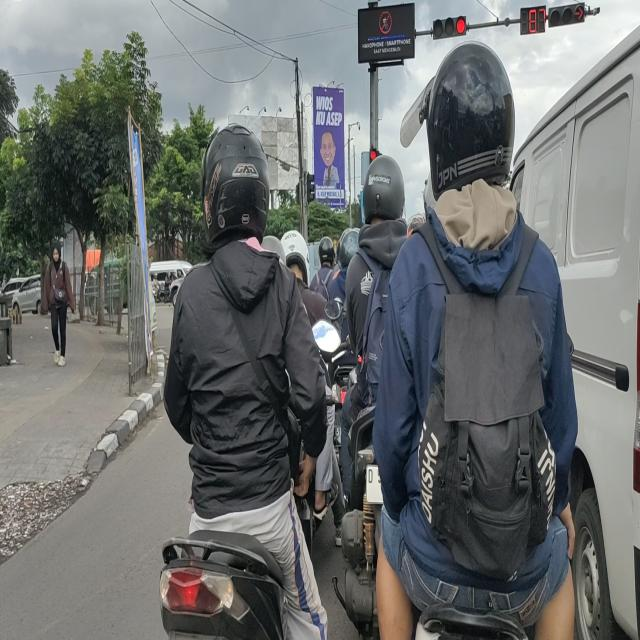helmet: (430, 42, 515, 190), (204, 122, 268, 240), (363, 157, 404, 226), (282, 229, 309, 279), (340, 234, 360, 268), (316, 236, 334, 272)
